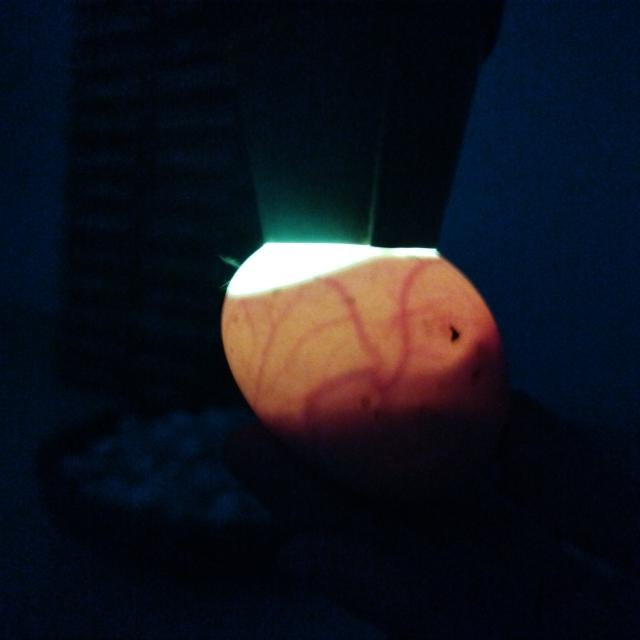Embriao: (269, 343, 507, 468)
